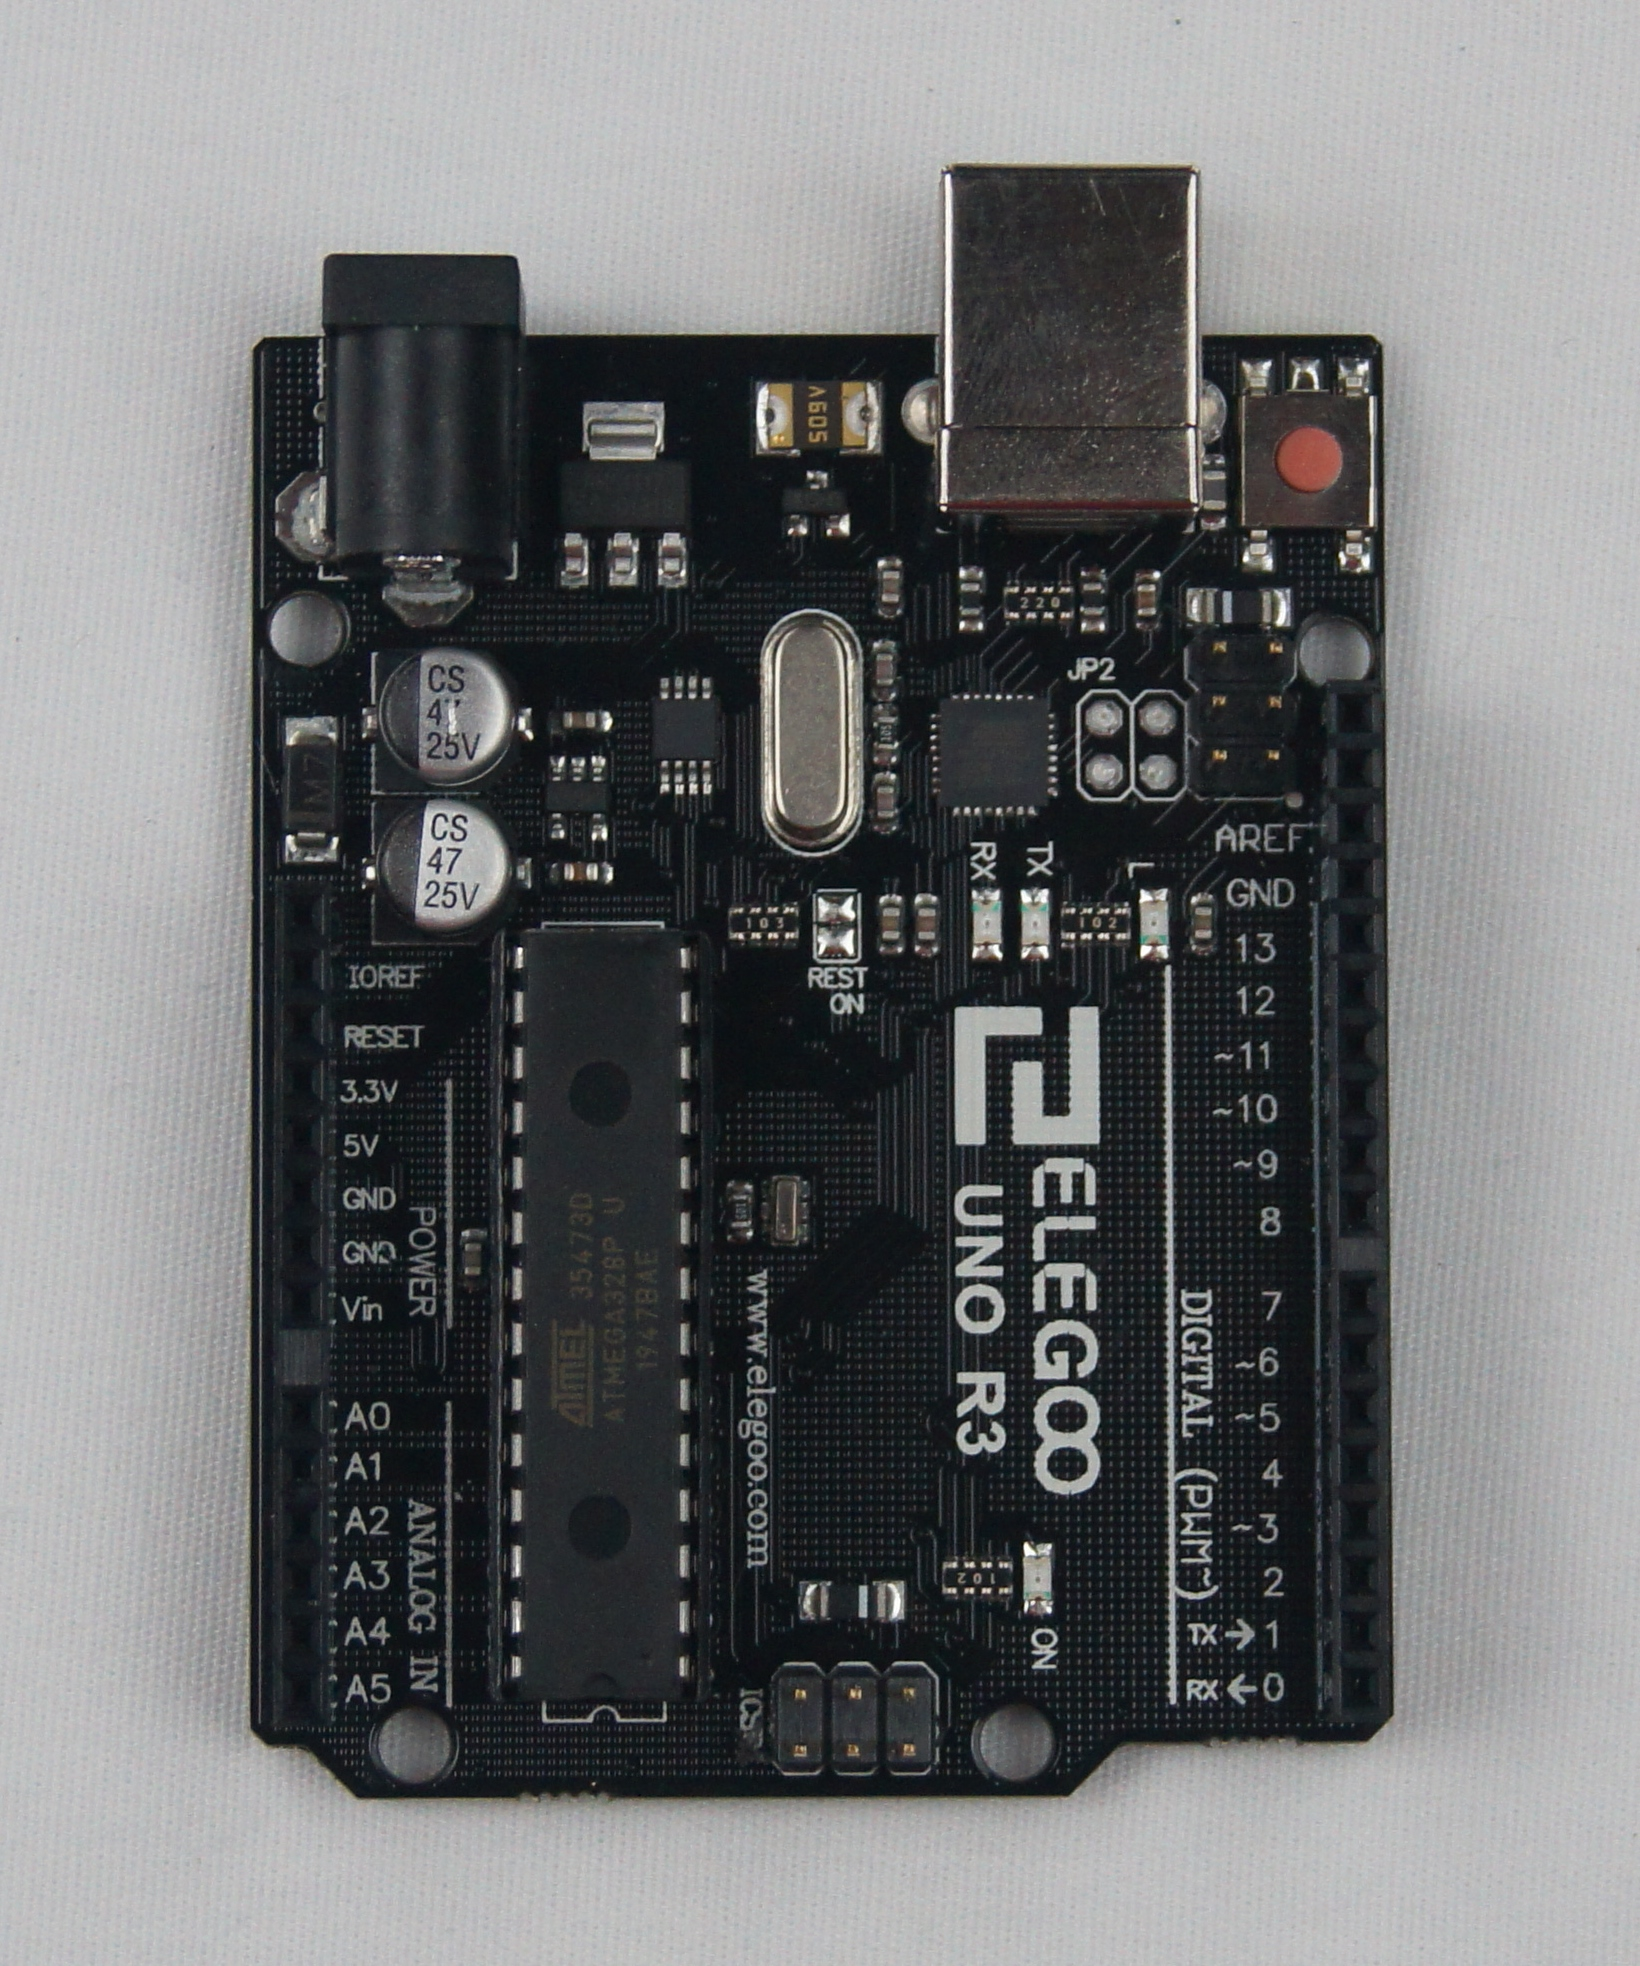kondensator: (374, 629, 513, 776), (368, 789, 497, 934), (755, 377, 879, 452), (541, 844, 627, 900), (555, 704, 626, 749), (1179, 896, 1219, 959), (454, 1217, 487, 1288), (876, 557, 907, 620), (1124, 572, 1160, 625), (871, 772, 903, 826), (871, 642, 898, 697), (872, 893, 900, 944), (911, 900, 933, 950)
